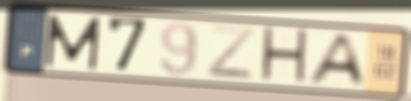7: (106, 15, 150, 76)
9: (158, 20, 199, 78)
A: (303, 32, 370, 89)
H: (257, 24, 311, 88)
M: (43, 12, 103, 72)
Z: (204, 23, 257, 82)
